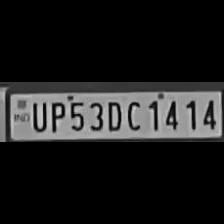1: (144, 98, 160, 132), (181, 98, 197, 130)
3: (86, 98, 104, 132)
4: (198, 96, 218, 130), (160, 97, 180, 130)
5: (66, 98, 86, 132)
C: (124, 98, 142, 132)
D: (104, 98, 122, 132)
P: (47, 99, 65, 133)
U: (28, 100, 48, 132)
